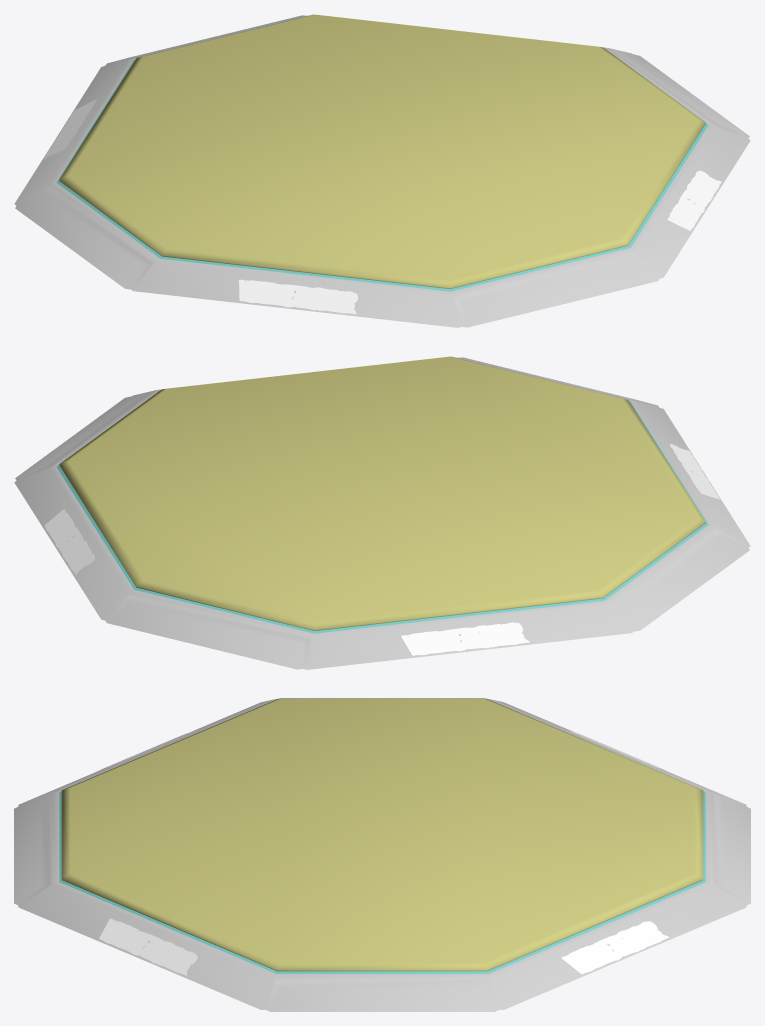
File: SurfaceEffectsPad.fbx
3 views of the same model, one above another, from view 1: azimuth 30°, elevation 25°; view 2: azimuth 150°, elevation 25°; view 3: azimuth 270°, elevation 25° (orthographic). The views are drawn at different scales.
Visible parts, largest first — view 1: SurfaceEffectsPad, SurfaceEffectsLabel_Grass, SurfaceEffectsLabel_Wood, SurfaceEffectsLabel_Metal; view 2: SurfaceEffectsPad, SurfaceEffectsLabel_Grass, SurfaceEffectsLabel_Wood, SurfaceEffectsLabel_Metal; view 3: SurfaceEffectsPad, SurfaceEffectsLabel_Grass, SurfaceEffectsLabel_Wood, SurfaceEffectsLabel_Metal.
Part boxes in pixels (x1,y1,x2,y2): SurfaceEffectsPad: [14, 14, 750, 327]; SurfaceEffectsLabel_Grass: [45, 103, 719, 313]; SurfaceEffectsLabel_Wood: [48, 102, 716, 312]; SurfaceEffectsLabel_Metal: [45, 102, 719, 313]; SurfaceEffectsPad: [14, 356, 750, 669]; SurfaceEffectsLabel_Grass: [46, 444, 718, 655]; SurfaceEffectsLabel_Wood: [50, 446, 714, 653]; SurfaceEffectsLabel_Metal: [45, 450, 719, 655]; SurfaceEffectsPad: [14, 698, 750, 1011]; SurfaceEffectsLabel_Grass: [102, 730, 663, 972]; SurfaceEffectsLabel_Wood: [107, 732, 657, 969]; SurfaceEffectsLabel_Metal: [100, 733, 664, 973].
Size of the model in its own units: 8.46 by 0.3219 by 8.46.
